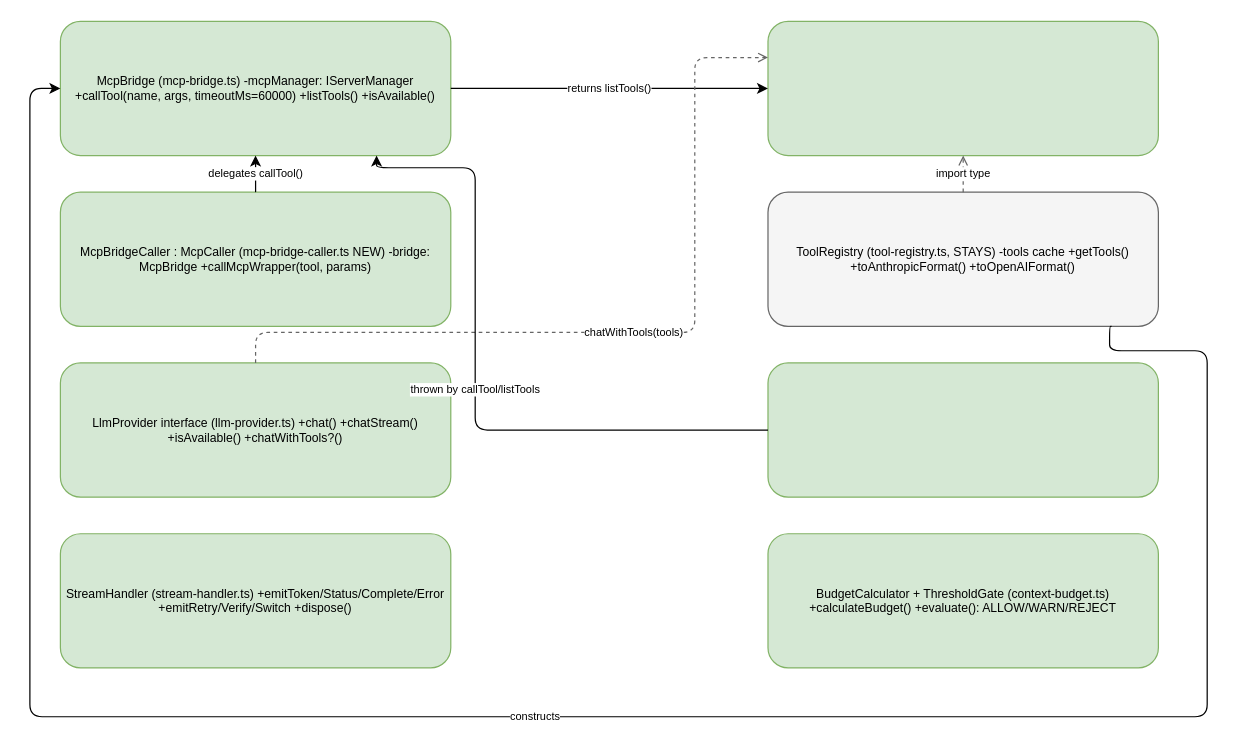
Some shapes in this 1238 by 748 pixel diagram are drawn without their labels. Each missing label, with the centre of its shape:
"McpToolDefinition interface (mcp-types.ts NEW) name; description; inputSchema" goes at (x=962, y=88).
"McpToolTimeoutError (mcp-bridge.ts) +toolName +timeoutMs" goes at (x=962, y=429).
